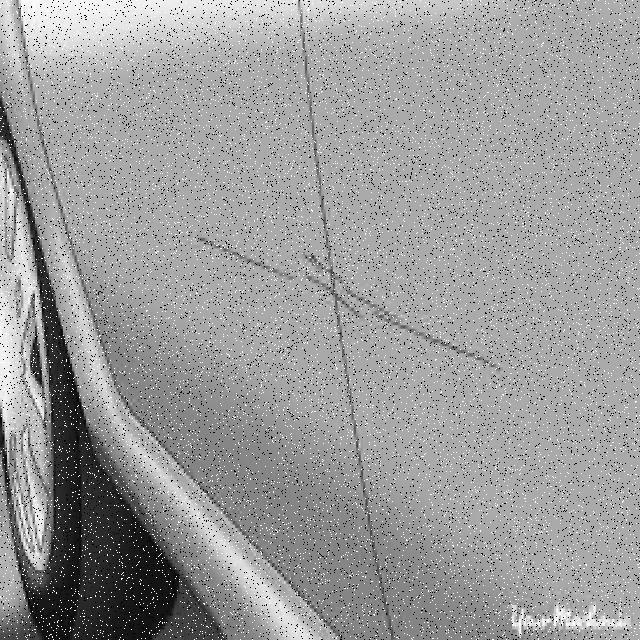doorouter-dent: (306, 0, 639, 604), (37, 1, 307, 592)
